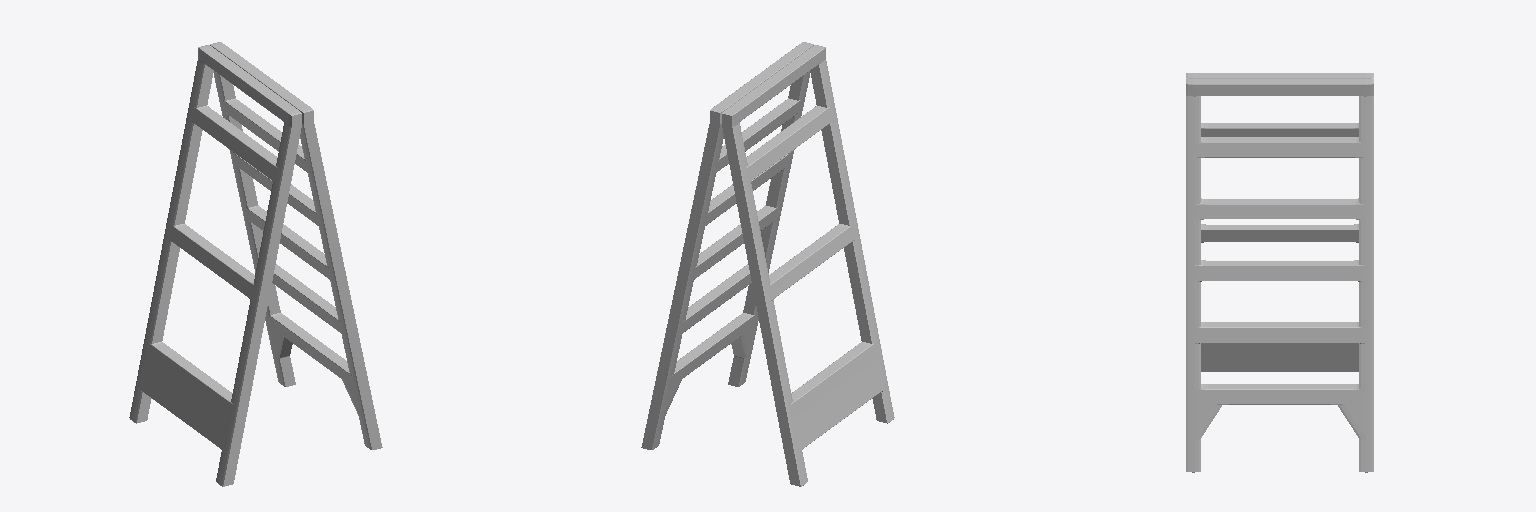
File: ladder.obj
3 renders of one model, left to right at view 1: azimuth 30°, elevation 25°; view 2: azimuth 150°, elevation 25°; view 3: azimuth 270°, elevation 25°, orthographic.
Visible parts, largest first — view 1: Cube.001, Cube; view 2: Cube.001, Cube; view 3: Cube, Cube.001.
Part boxes in pixels (bbox=[...]): Cube.001: bbox=[129, 45, 301, 486]; Cube: bbox=[210, 42, 382, 449]; Cube.001: bbox=[722, 45, 894, 486]; Cube: bbox=[641, 42, 813, 449]; Cube: bbox=[1186, 79, 1373, 472]; Cube.001: bbox=[1186, 73, 1373, 371].
Size of the model in its own units: 28.15 by 59.58 by 28.53.